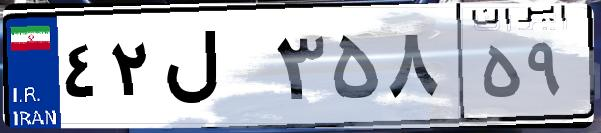2: (110, 28, 158, 98)
3: (270, 28, 330, 110)
4: (57, 26, 110, 100)
5: (330, 28, 385, 110), (475, 38, 525, 113)
8: (385, 28, 445, 110)
9: (525, 38, 570, 115)
ل: (158, 20, 270, 120)
